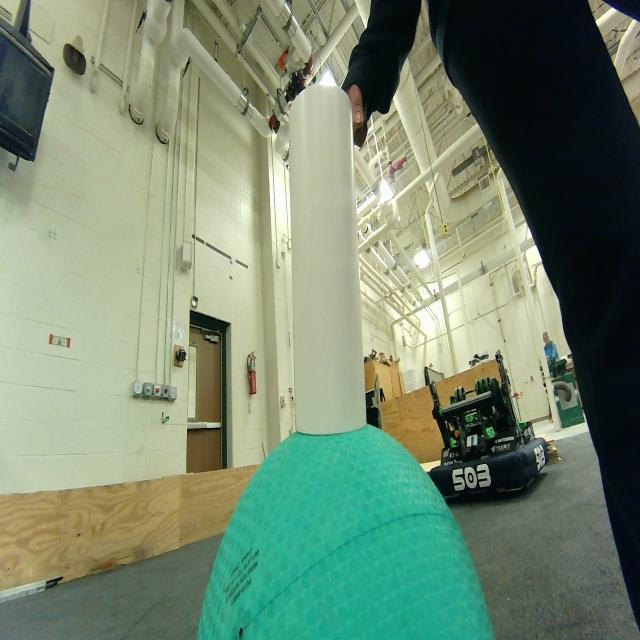algae: (190, 435, 485, 636)
coral: (284, 83, 370, 431)
